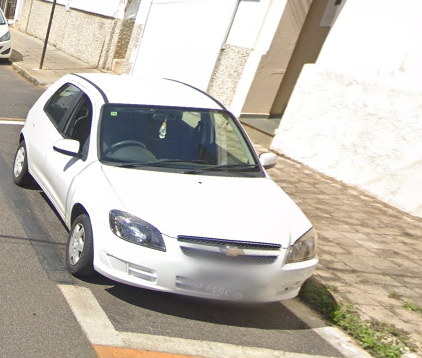car: (10, 68, 322, 312)
